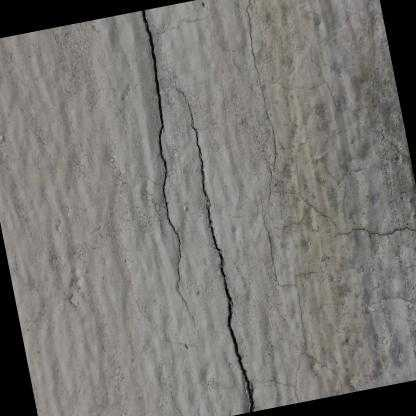crack: (190, 113, 254, 412), (140, 9, 179, 244)
